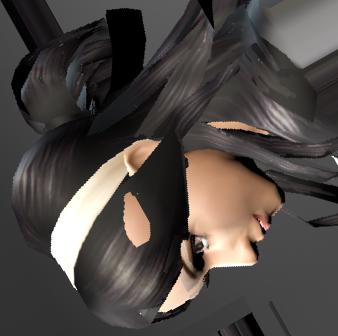clip: (117, 190, 156, 250)
